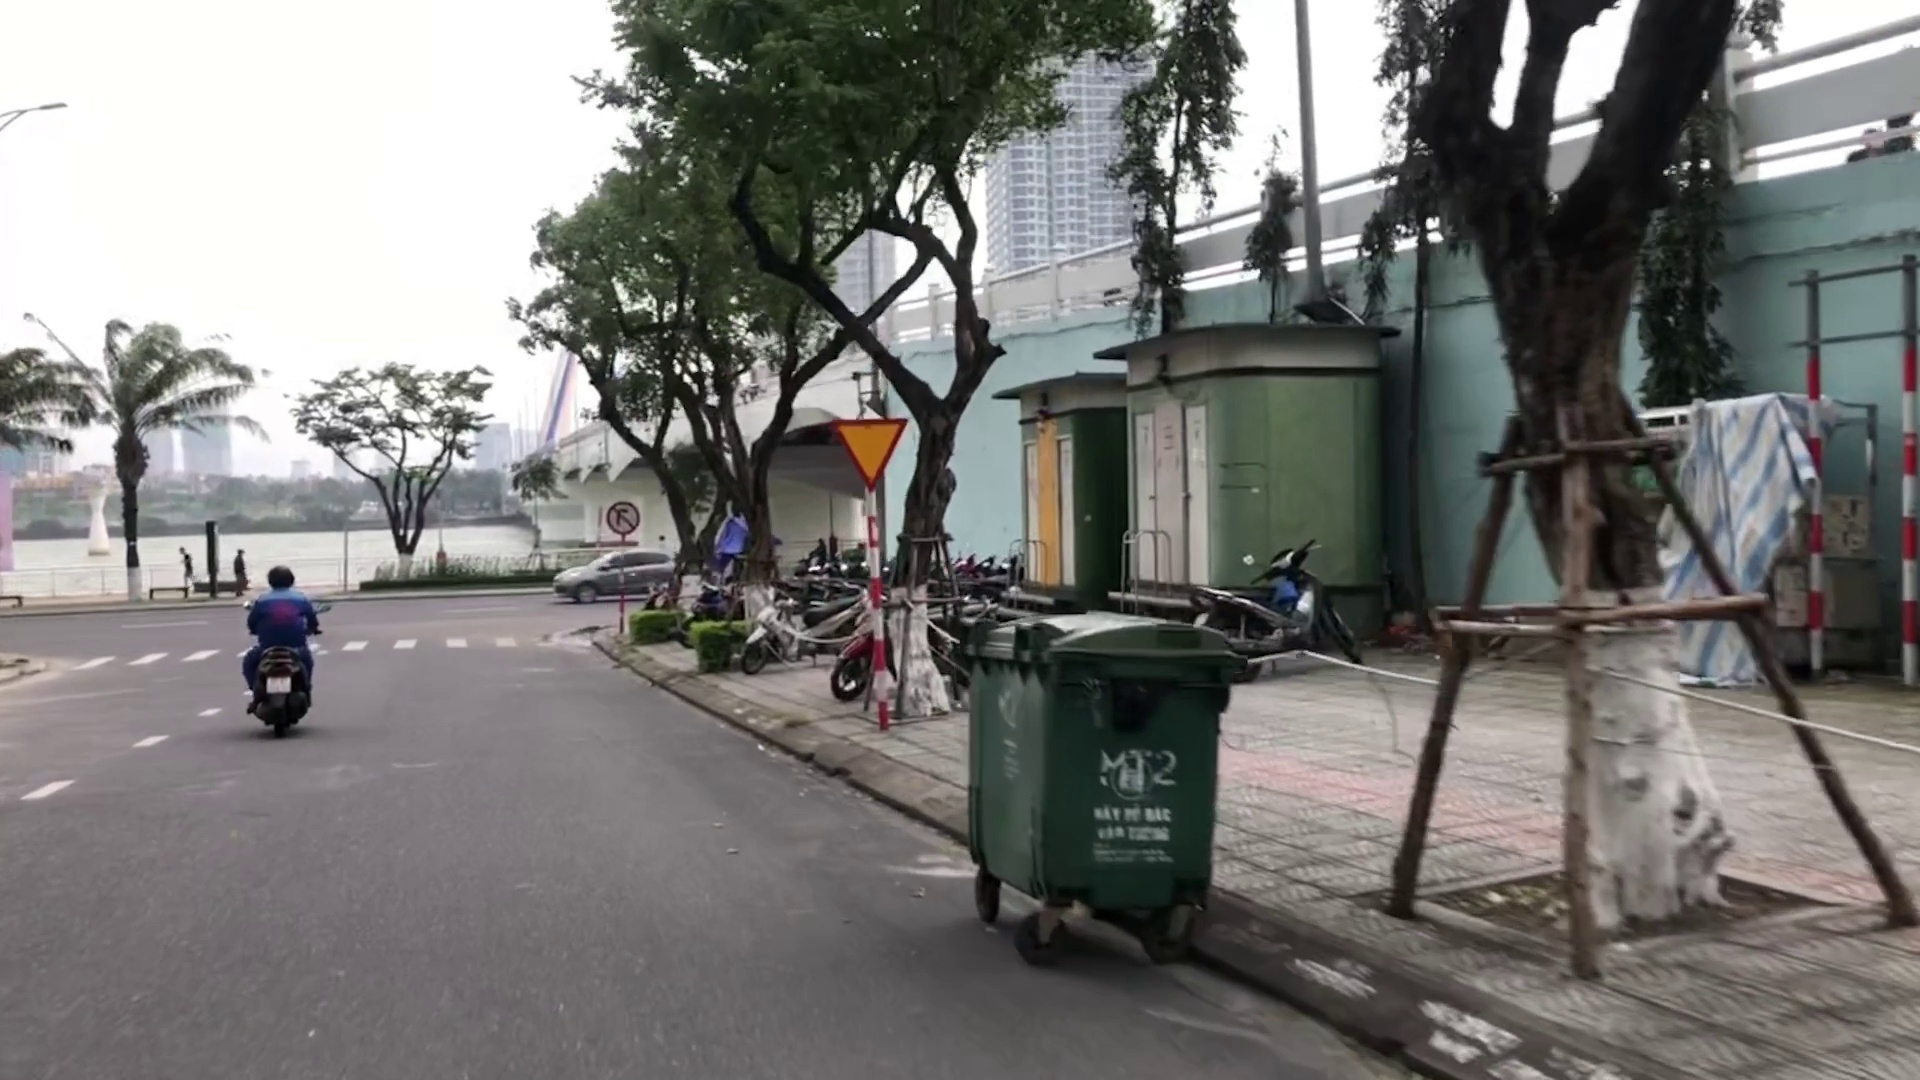Bien khac: (832, 414, 910, 487), (605, 498, 637, 534)
